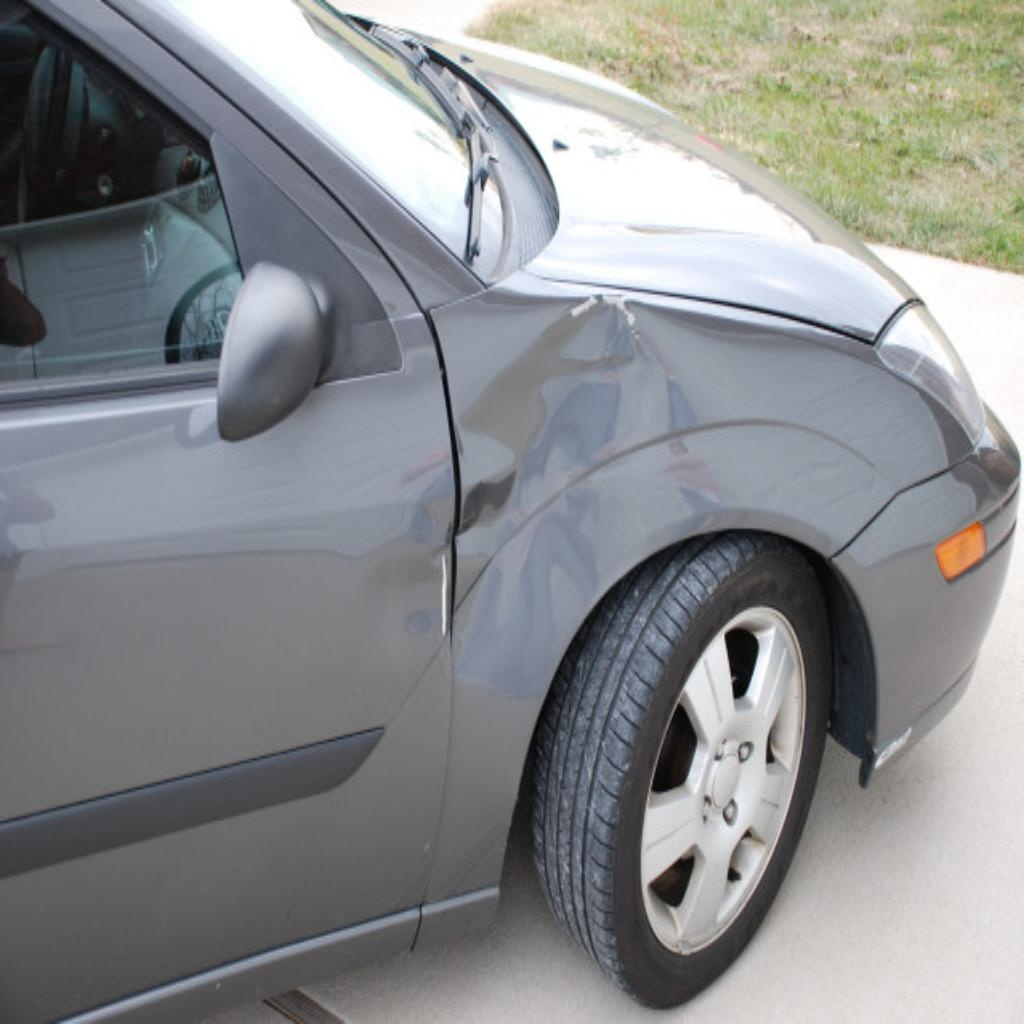Dent: (404, 293, 719, 691)
